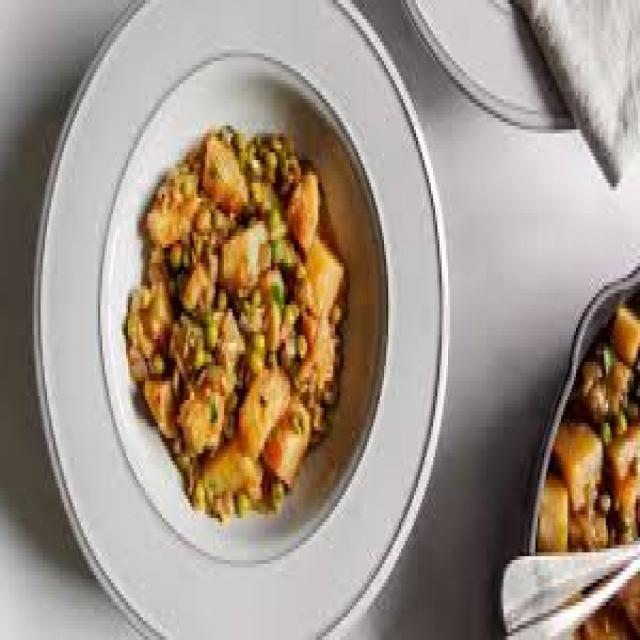Aloo Matar: (114, 116, 352, 532), (531, 285, 640, 640)
